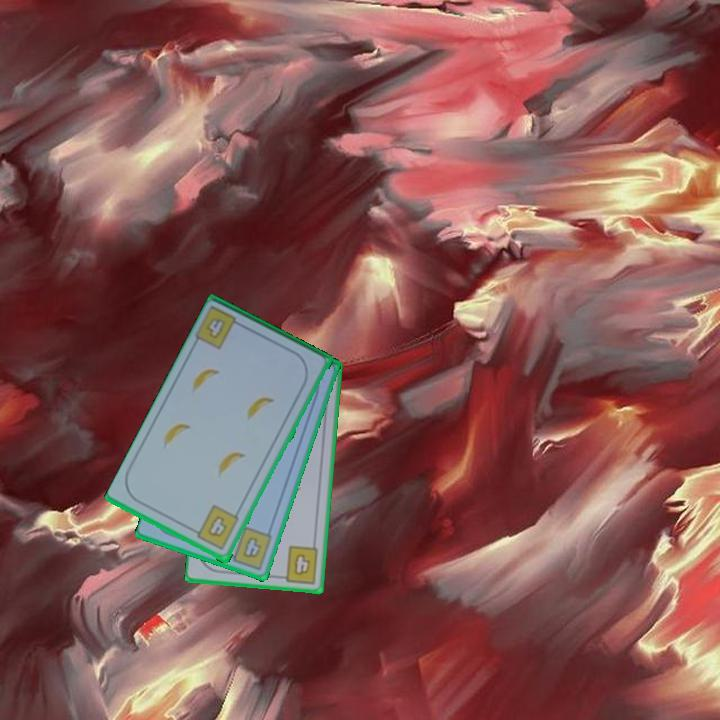4b: (193, 303, 248, 353), (189, 502, 242, 553), (223, 523, 275, 573), (275, 542, 321, 586)
